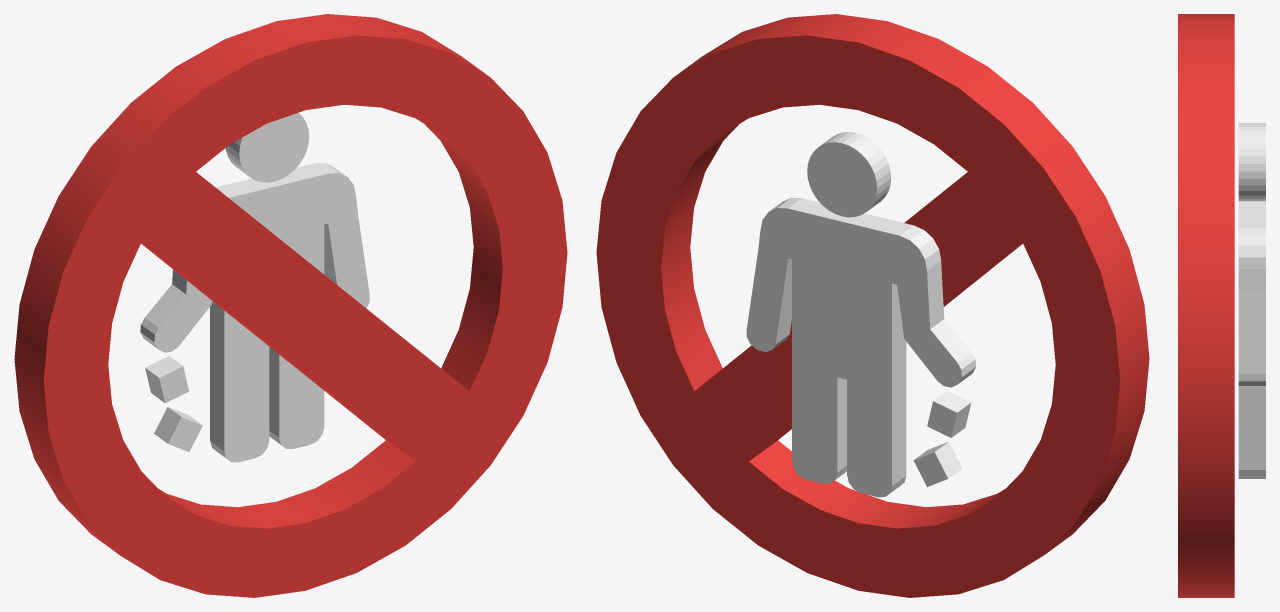
Rendered from no_littering.gltf.
The picture shows the model from 3 angles, left to right: view 1: azimuth 30°, elevation 25°; view 2: azimuth 150°, elevation 25°; view 3: azimuth 270°, elevation 25°; orthographic projection. The views are drawn at different scales.
Parts seen in each view (by area): view 1: Circle.2624, Cube.6307; view 2: Circle.2624, Cube.6307; view 3: Circle.2624, Cube.6307.
Boxes of the visible parts, x1,y1,x2,y2 form: Circle.2624: (14,14,567,597); Cube.6307: (140,112,369,462); Circle.2624: (596,14,1149,597); Cube.6307: (746,132,975,497); Circle.2624: (1178,14,1234,597); Cube.6307: (1238,123,1265,478).
Bounding box in the file's own units: 1.92 × 1.92 × 0.2891.
Materials: 1 (1 with a texture image).
